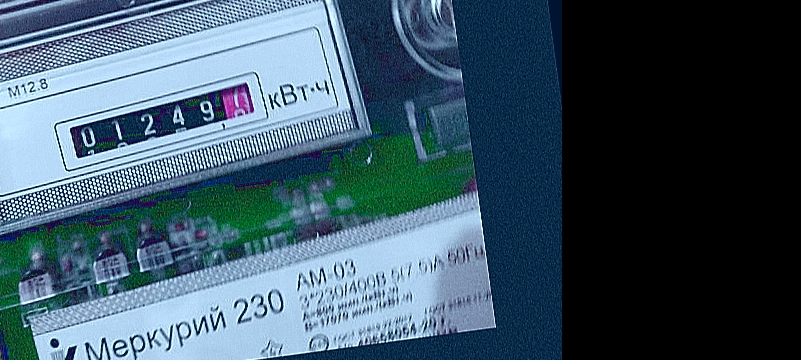0: (74, 121, 96, 149)
1: (105, 116, 124, 143)
2: (135, 109, 158, 138)
4: (166, 100, 187, 129)
7: (224, 84, 242, 110)
9: (194, 96, 216, 123)
screen: (43, 71, 284, 177)
